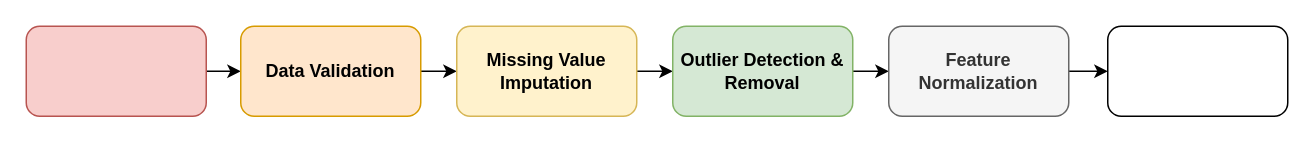
Image size: 1314x143. Some labels were removed from this diagram. The shapes that lost their labels are listed below. From the top down, each one's box as (x1, y1, x2, y2) in pixels, then its label:
(25, 25, 206, 116): Raw Data Import
(1106, 25, 1288, 116): Cleaned Dataset Export
